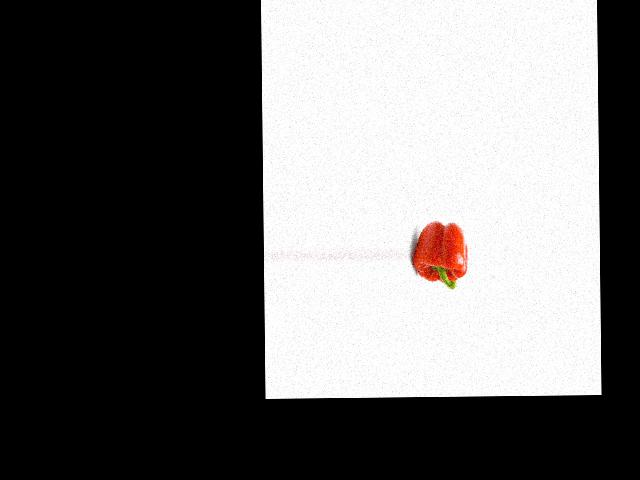bell_pepper: (413, 215, 468, 293)
